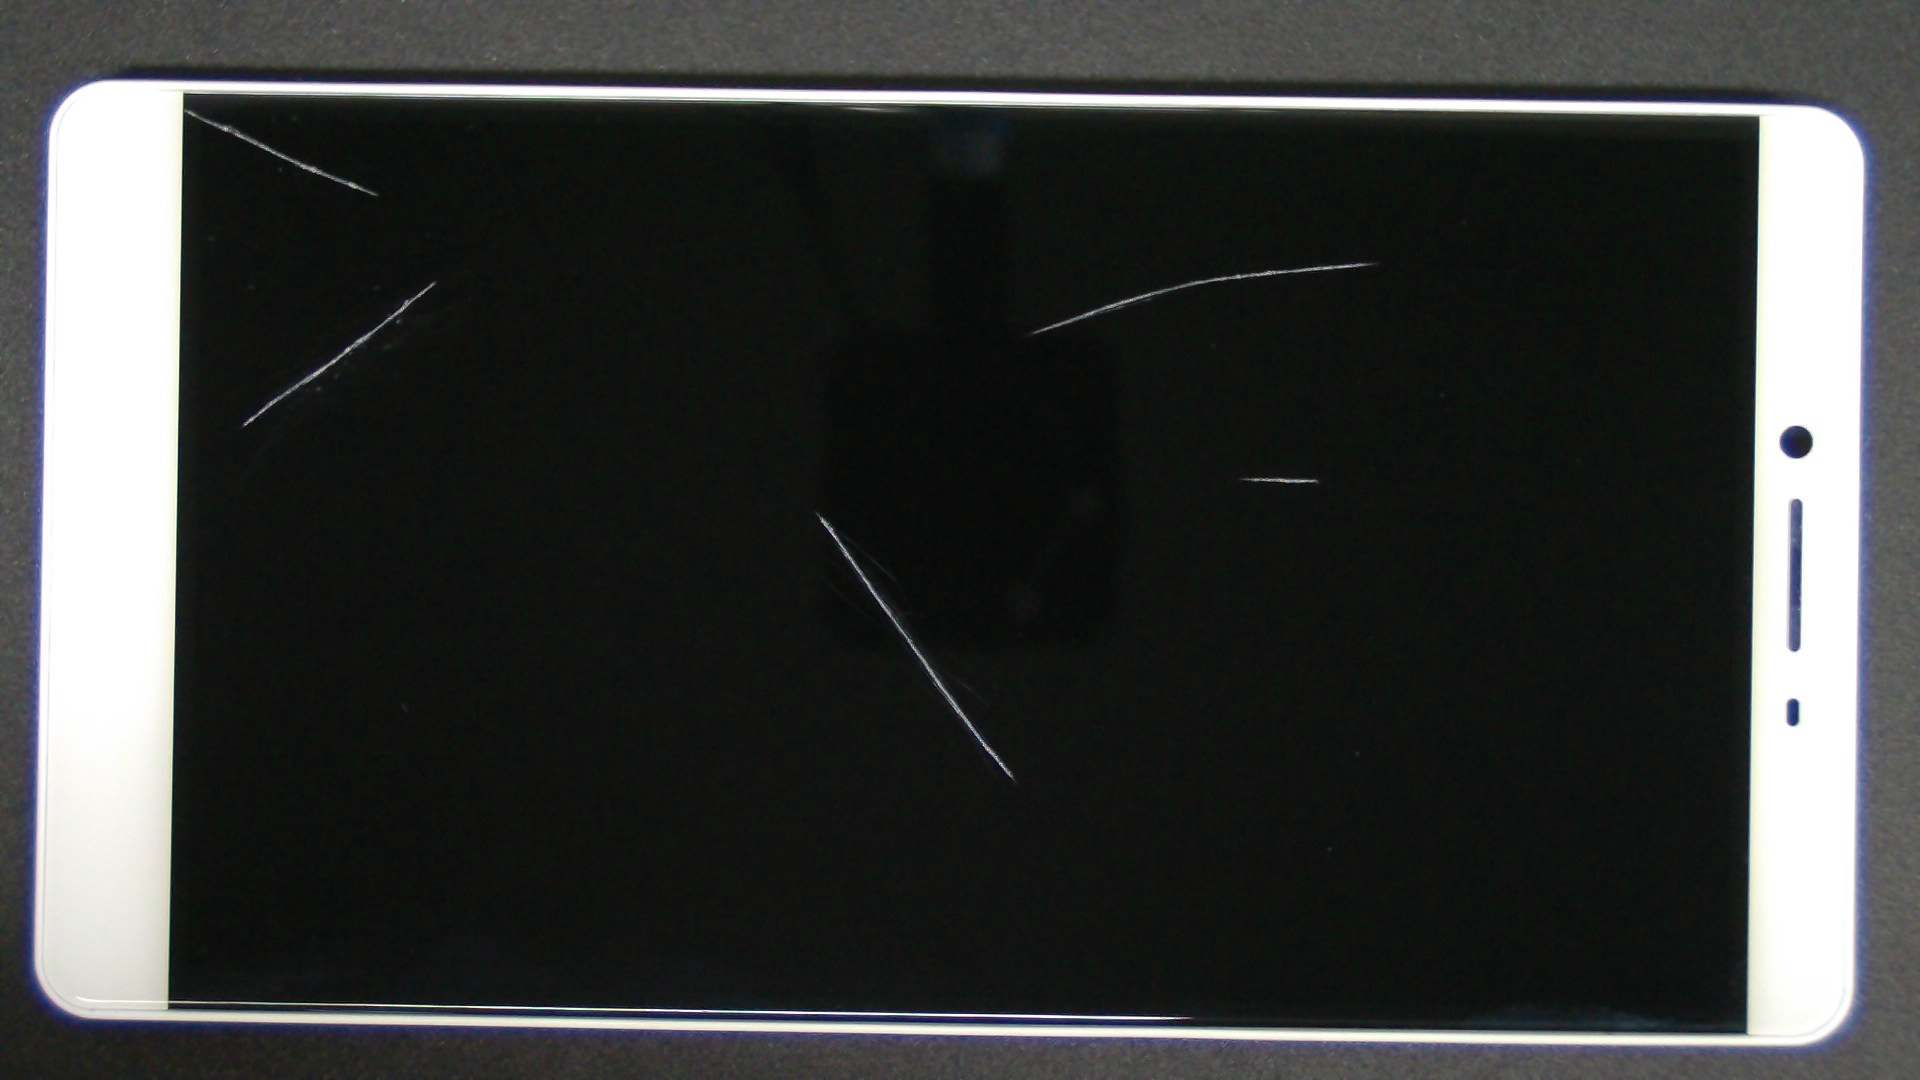oil: (642, 237, 1920, 715), (407, 255, 1222, 767), (680, 131, 1920, 393), (218, 140, 651, 421), (92, 54, 276, 162)
